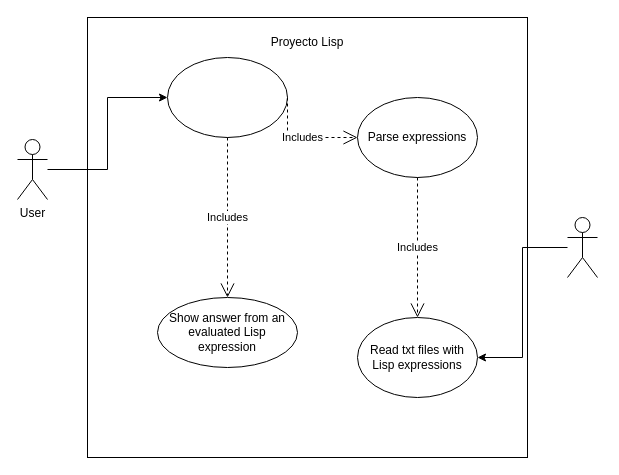
Image size: 619x475. Some labels were removed from this diagram. The centre of each missing label's shape, as x and y in pixels:
"Evaluate Lisp Expressions" goes at point (227, 97).
"Txt File" goes at point (582, 247).
